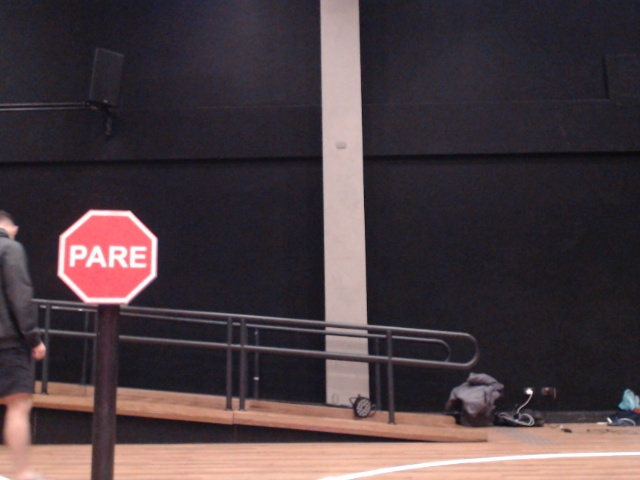SEMAFORO: (9, 179, 218, 371)
